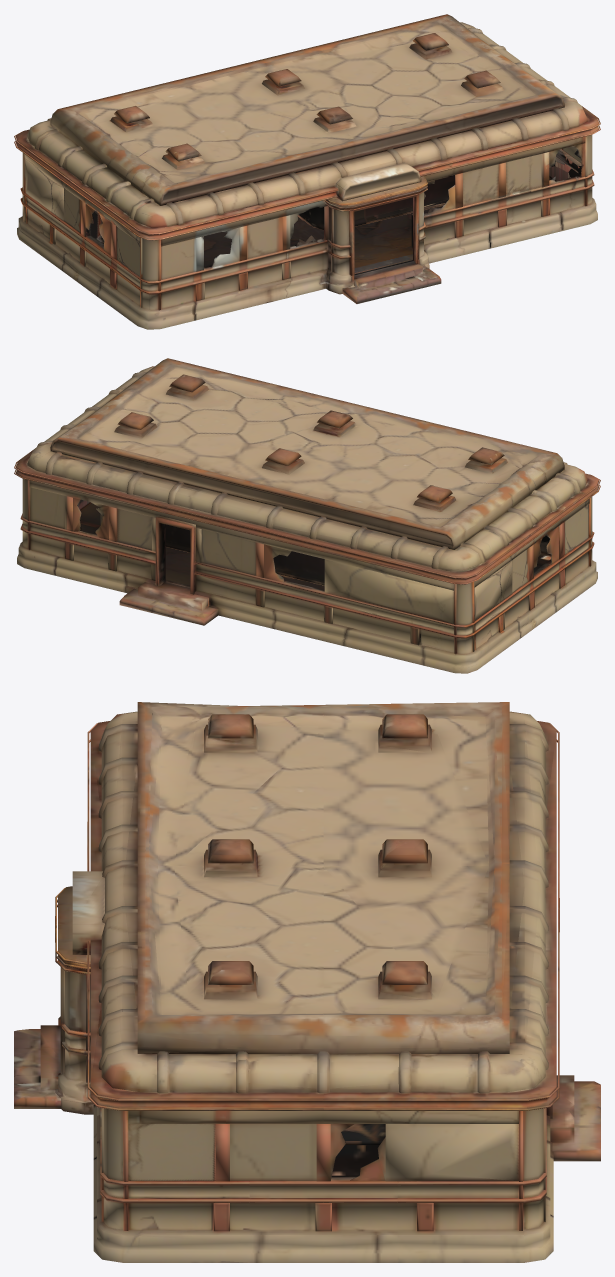
File: cafe.fbx
The picture shows the model from 3 angles, top to bottom: view 1: azimuth 30°, elevation 25°; view 2: azimuth 150°, elevation 25°; view 3: azimuth 270°, elevation 25°; orthographic projection. The views are drawn at different scales.
Parts seen in each view (by area): view 1: input; view 2: input; view 3: input.
Boxes of the visible parts, x1,y1,x2,y2 form: input: [14, 14, 600, 329]; input: [14, 358, 600, 673]; input: [14, 702, 600, 1262].
Bounding box in the file's own units: 200 × 56.26 × 130.
Materials: 1 (1 with a texture image).
